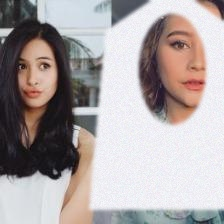Mukena: (89, 0, 224, 209)
